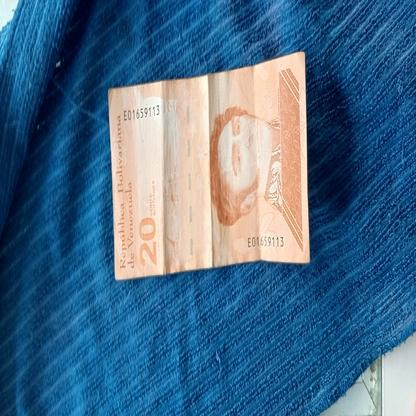vef_front: (107, 50, 310, 280)
